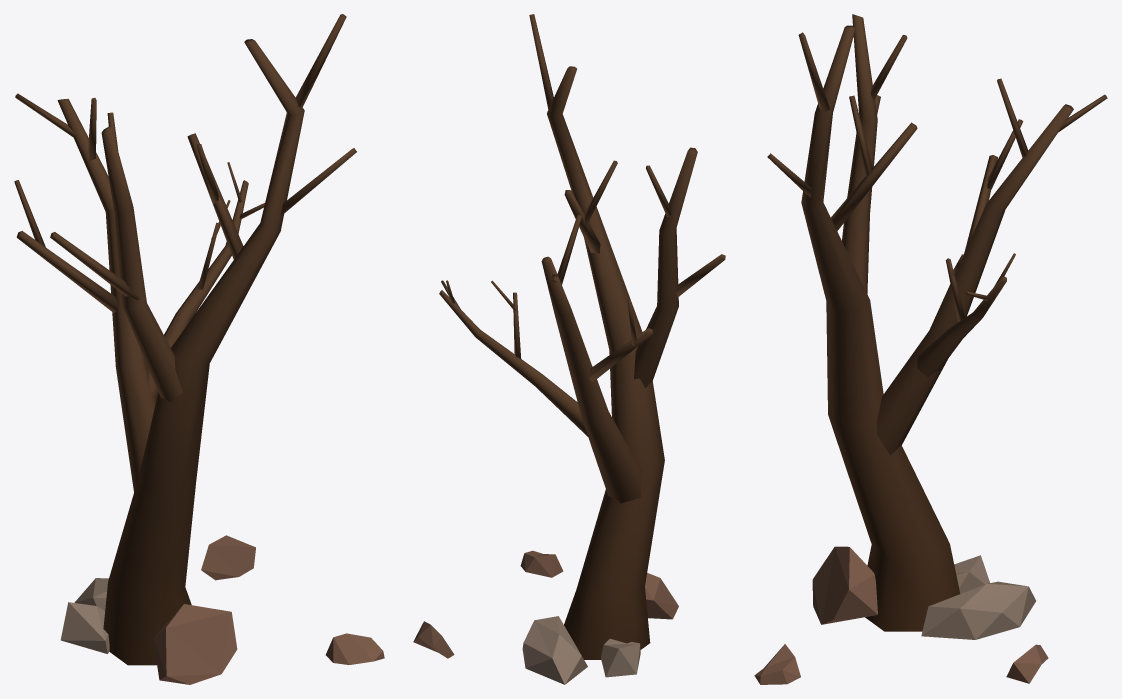
The model's file is Tree 2.glb.
3 views of the same model, side by side, from view 1: azimuth 30°, elevation 25°; view 2: azimuth 150°, elevation 25°; view 3: azimuth 270°, elevation 25° (orthographic). The views are drawn at different scales.
Parts seen in each view (by area): view 1: Tree 2; view 2: Tree 2; view 3: Tree 2.
Boxes of the visible parts, x1,y1,x2,y2 form: Tree 2: (14,14,384,684); Tree 2: (413,14,725,684); Tree 2: (754,14,1107,684).
Size of what is drawn, in the model's own units: 2.51 by 5.54 by 2.73.
Materials: 1 (1 with a texture image).
